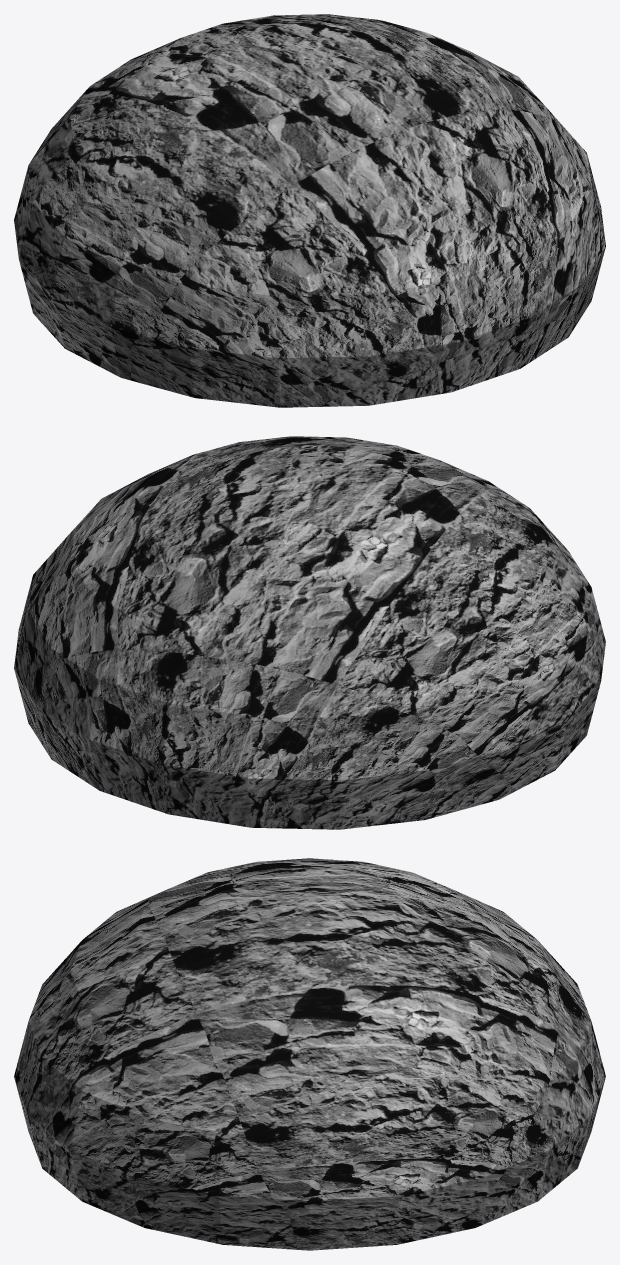
File: rock.obj
The picture shows the model from 3 angles, top to bottom: view 1: azimuth 30°, elevation 25°; view 2: azimuth 150°, elevation 25°; view 3: azimuth 270°, elevation 25°; orthographic projection.
Parts seen in each view (by area): view 1: Sphere; view 2: Sphere; view 3: Sphere.
Part boxes in pixels (box(x1,y1,x2,y2)): Sphere: box(14, 14, 605, 407); Sphere: box(14, 436, 605, 829); Sphere: box(14, 858, 605, 1250).
Size of the model in its own units: 0.75 by 0.3273 by 0.75.
